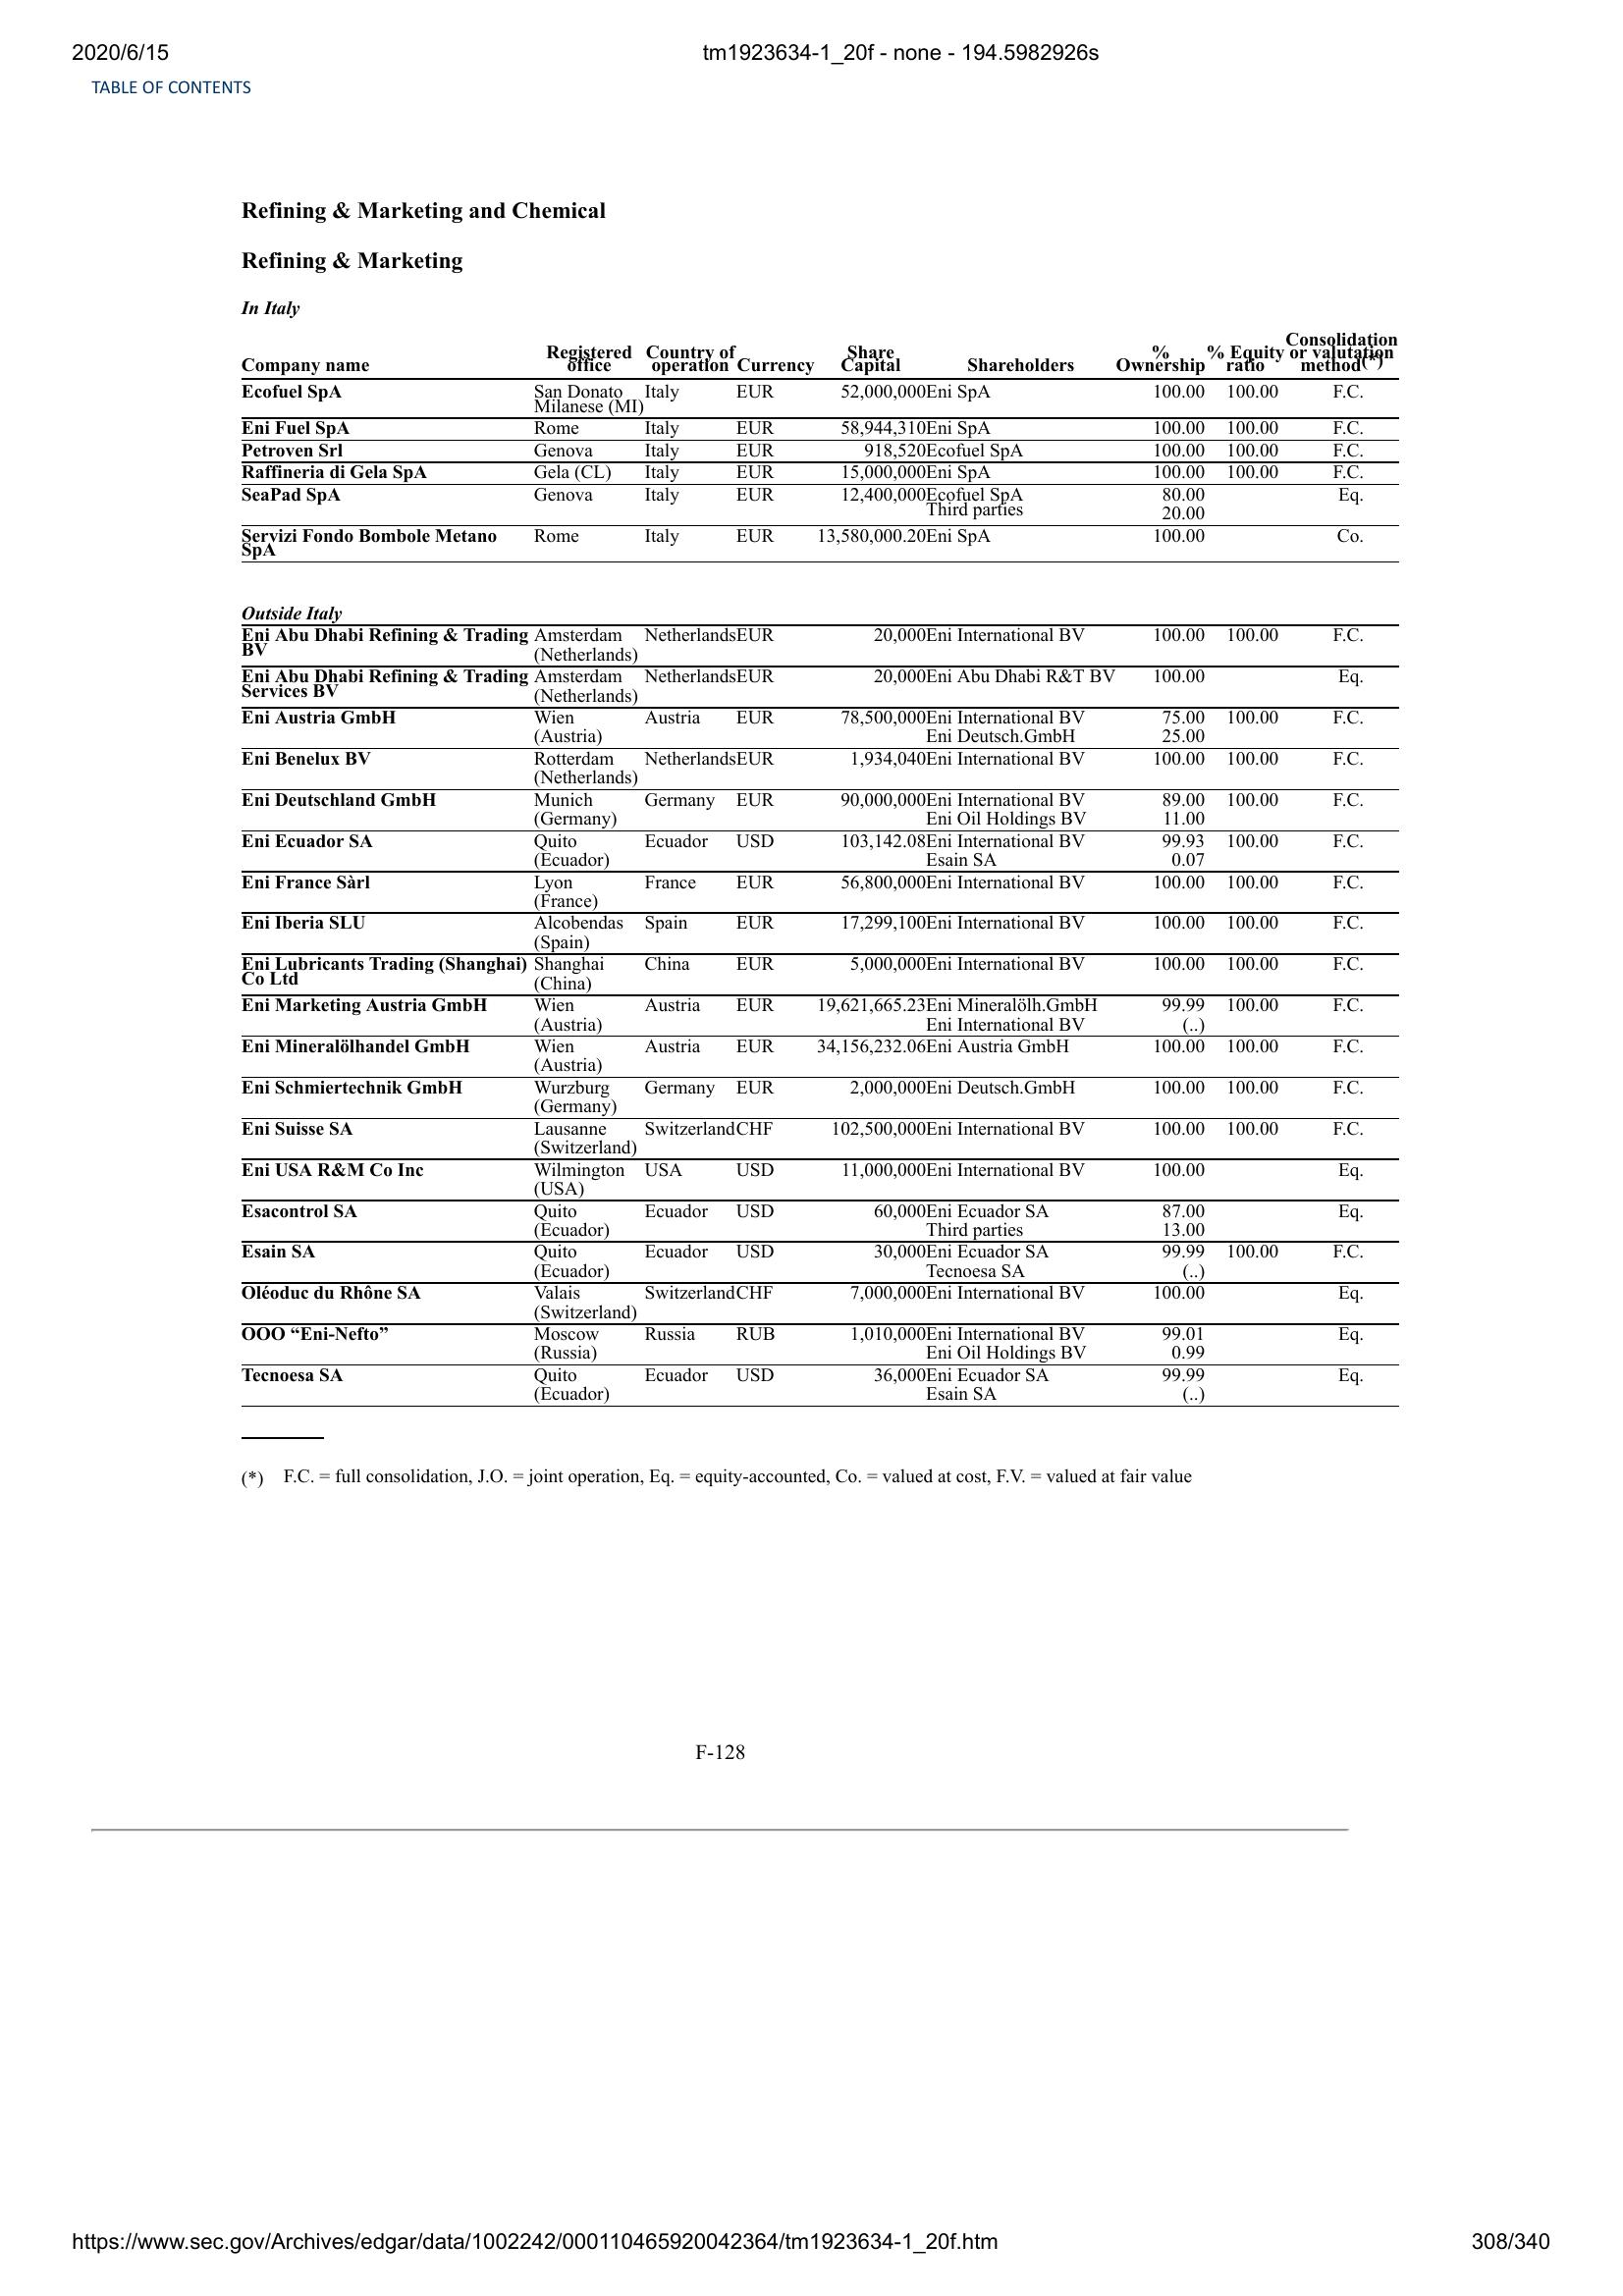table: (235, 325, 1400, 1413)
